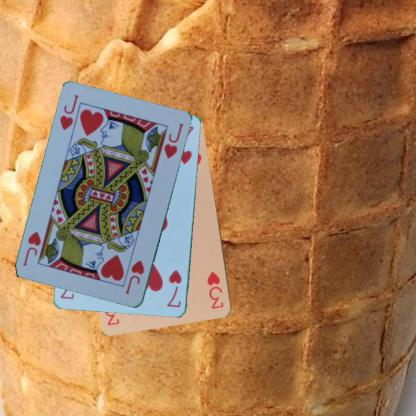3h: (204, 269, 226, 310)
7h: (165, 267, 184, 309)
Jh: (58, 92, 80, 132), (123, 258, 146, 296)
